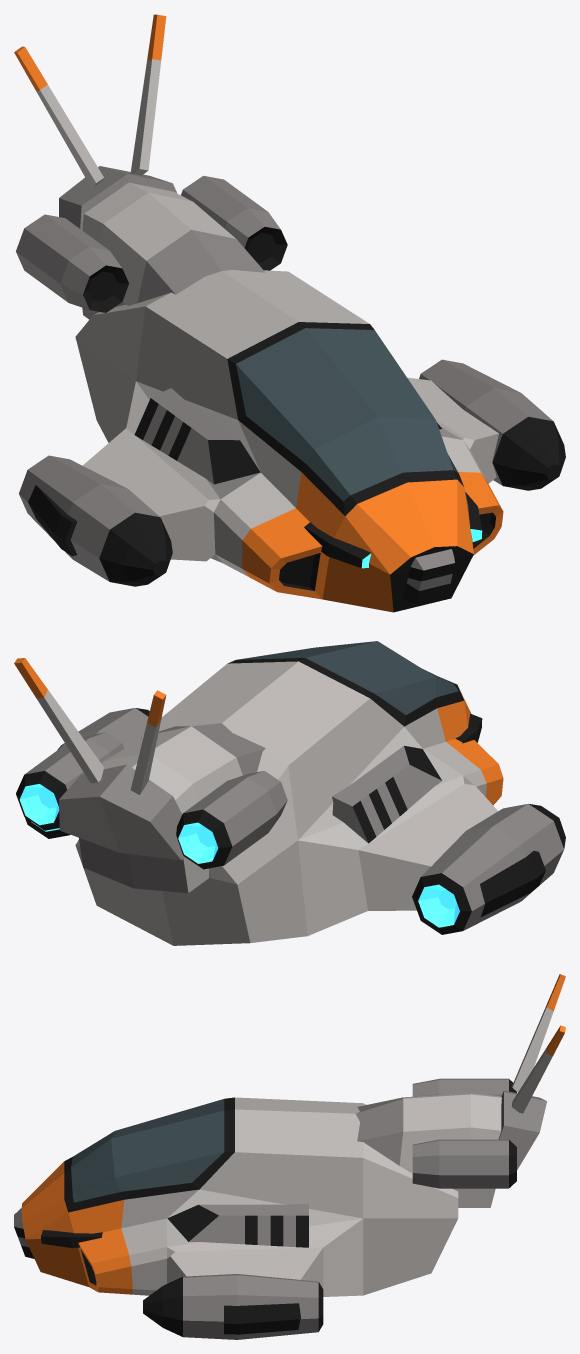
Rendered from scifi_scifi-spaceship-cruiser.fbx.
3 renders of one model, top to bottom at view 1: azimuth 30°, elevation 25°; view 2: azimuth 150°, elevation 25°; view 3: azimuth 270°, elevation 25°, orthographic. The views are drawn at different scales.
Visible parts, largest first — view 1: scifi_scifi_spaceship_cruiser; view 2: scifi_scifi_spaceship_cruiser; view 3: scifi_scifi_spaceship_cruiser.
Boxes of the visible parts, x1,y1,x2,y2 form: scifi_scifi_spaceship_cruiser: (14, 14, 565, 612); scifi_scifi_spaceship_cruiser: (14, 641, 565, 945); scifi_scifi_spaceship_cruiser: (14, 974, 565, 1339).
Size of the model in its own units: 158 by 105 by 200.
